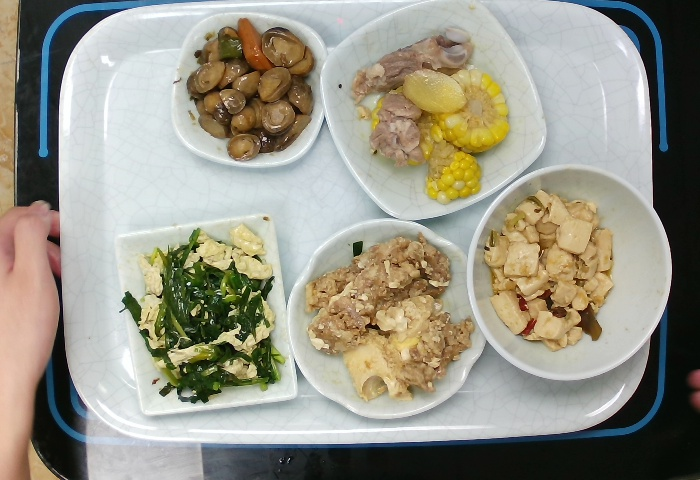JYsf-Ao_Yuan_Wan: (284, 214, 490, 421)
JYsf-Fan_Wan: (465, 160, 679, 384)
JYsf-Si_Fang_Die: (171, 8, 329, 169)
WCQzf-Da_Si_Fang_Die: (311, 1, 553, 222)
WCQzf-Ru_Ci_Si_Fang_Die: (109, 209, 301, 422)
